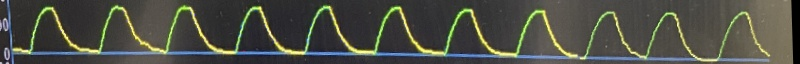normal_volume: (4, 0, 775, 64)
